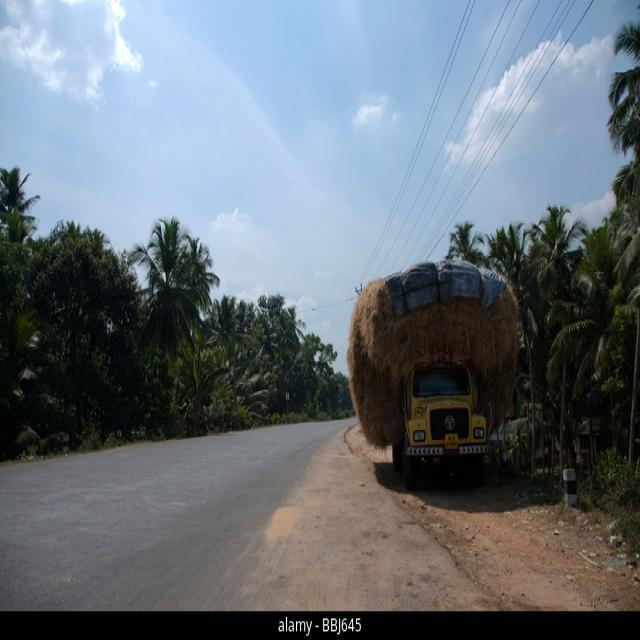normal_truck: (402, 365, 490, 489)
overloaded_truck: (348, 261, 518, 447)
